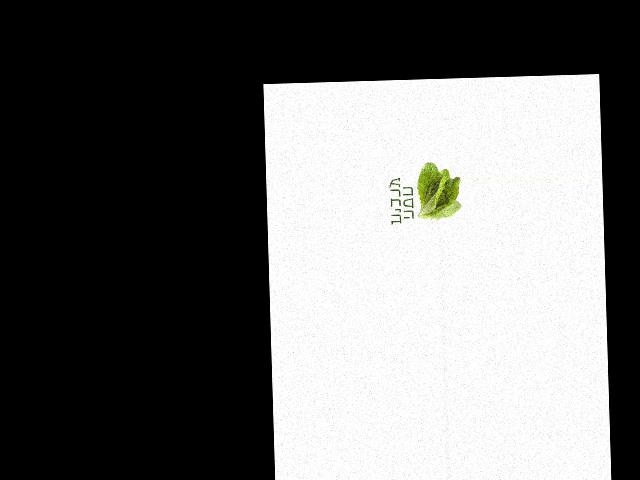lettuce: (411, 160, 461, 223)
